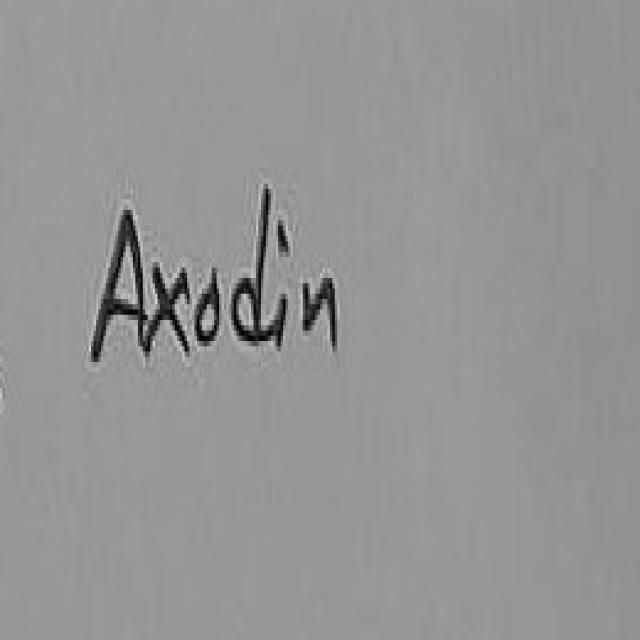A: (94, 210, 145, 359)
d: (231, 185, 272, 347)
i: (262, 294, 287, 351), (278, 220, 290, 254)
n: (300, 270, 338, 353)
o: (197, 281, 219, 344)
x: (145, 262, 190, 355)
